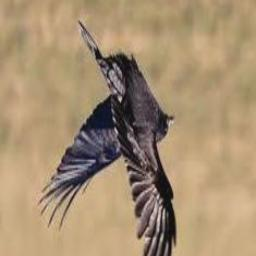Crow: (37, 23, 176, 256)
